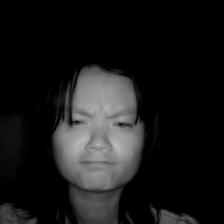sad: (42, 52, 157, 190)
